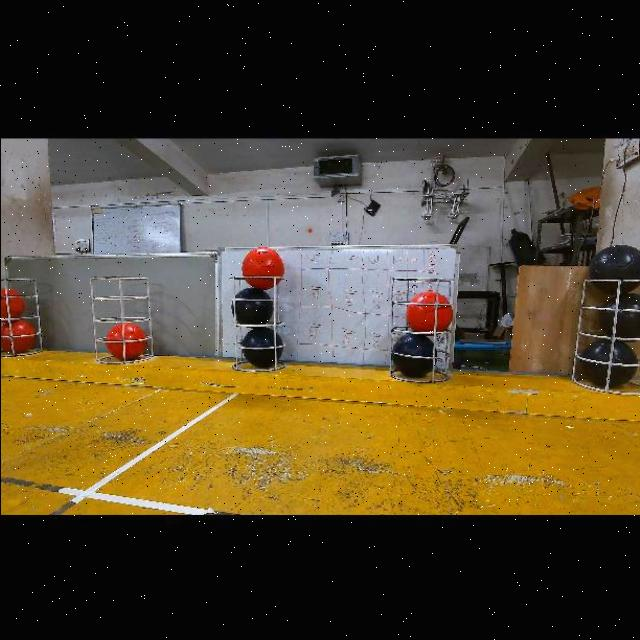P: (577, 338, 637, 386), (590, 242, 640, 292), (598, 289, 640, 337), (392, 331, 436, 376), (241, 325, 283, 365), (231, 286, 273, 323)
R: (405, 288, 452, 330), (241, 245, 283, 288), (104, 321, 146, 359), (0, 317, 36, 352), (0, 286, 24, 317)
S: (566, 273, 640, 391), (379, 270, 457, 380), (81, 266, 163, 366), (225, 270, 288, 366), (0, 272, 54, 356)
